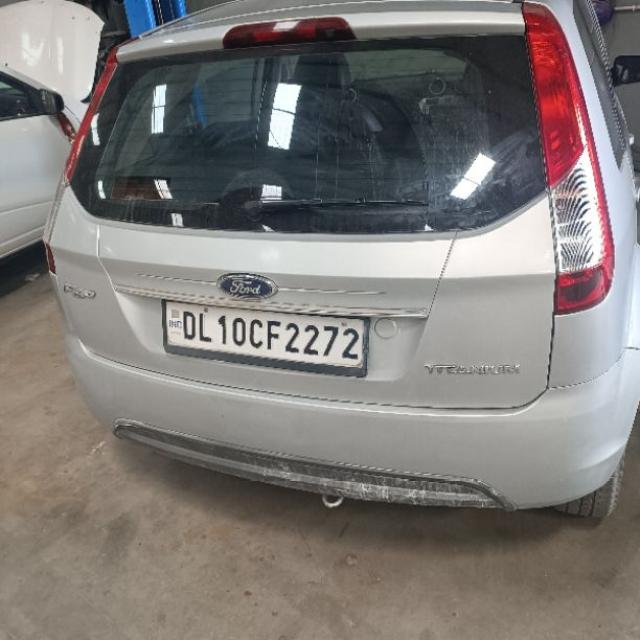license_plate: (161, 298, 369, 378)
